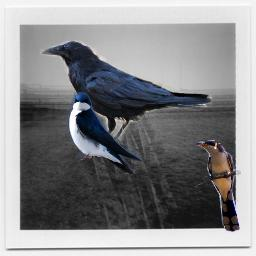Crow: (40, 40, 214, 150)
Cuckoo: (195, 140, 241, 233)
Swallow: (67, 92, 142, 174)
